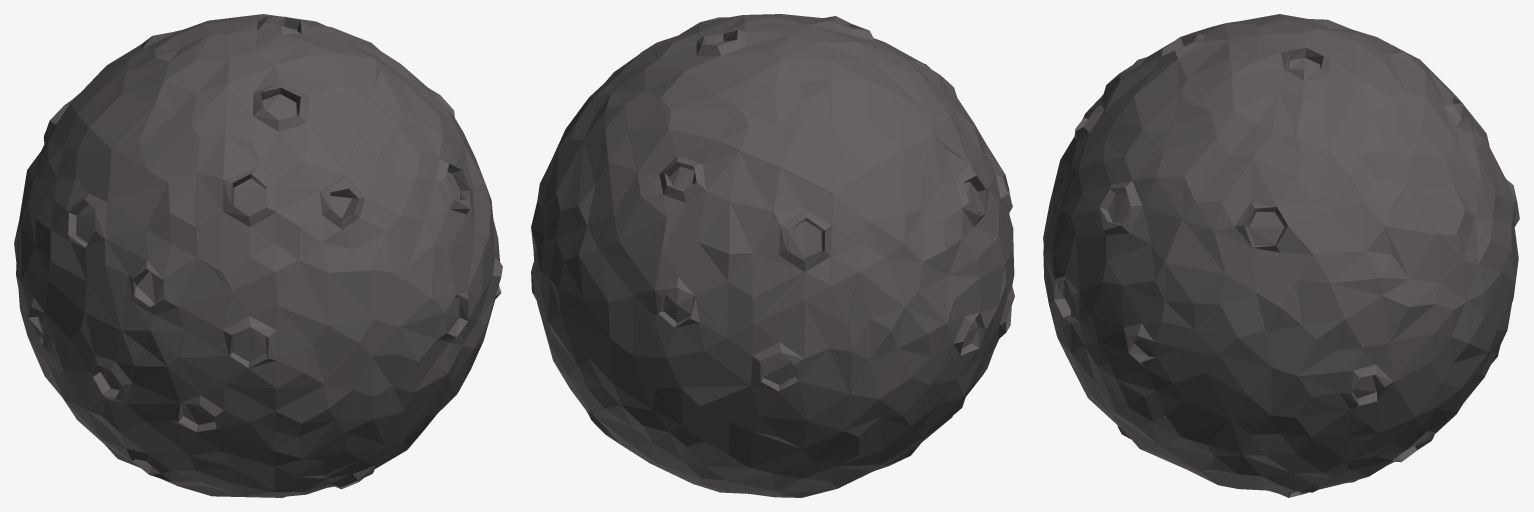
Rendered from Moon.fbx.
The picture shows the model from 3 angles, left to right: view 1: azimuth 30°, elevation 25°; view 2: azimuth 150°, elevation 25°; view 3: azimuth 270°, elevation 25°; orthographic projection.
Parts seen in each view (by area): view 1: Moon; view 2: Moon; view 3: Moon.
Part boxes in pixels (box(x1,y1,x2,y2)): Moon: box(14, 14, 502, 497); Moon: box(531, 14, 1014, 497); Moon: box(1043, 14, 1519, 497).
Bounding box in the file's own units: 73.65 × 73.96 × 73.2.
Materials: 1 (1 with a texture image).
